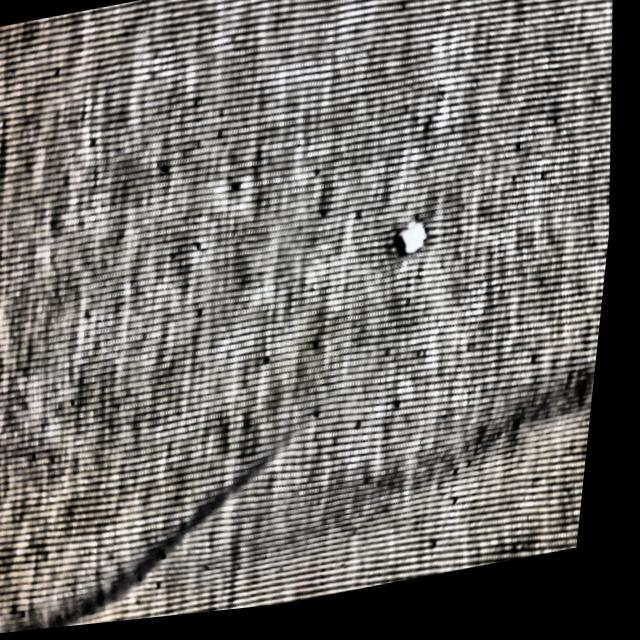Hole: (237, 147, 295, 207)
